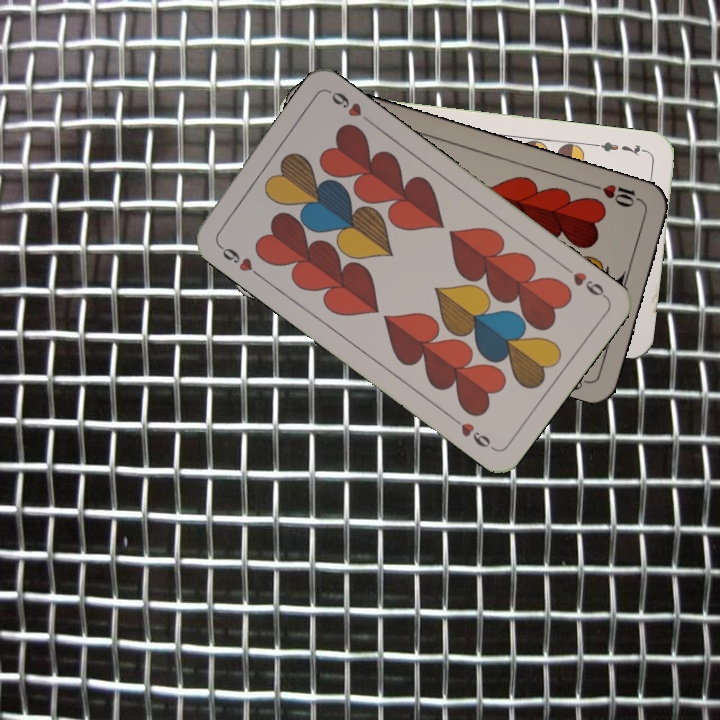E7: (590, 137, 650, 158)
H10: (588, 180, 646, 210)
H9: (213, 238, 264, 280), (558, 261, 610, 301)
